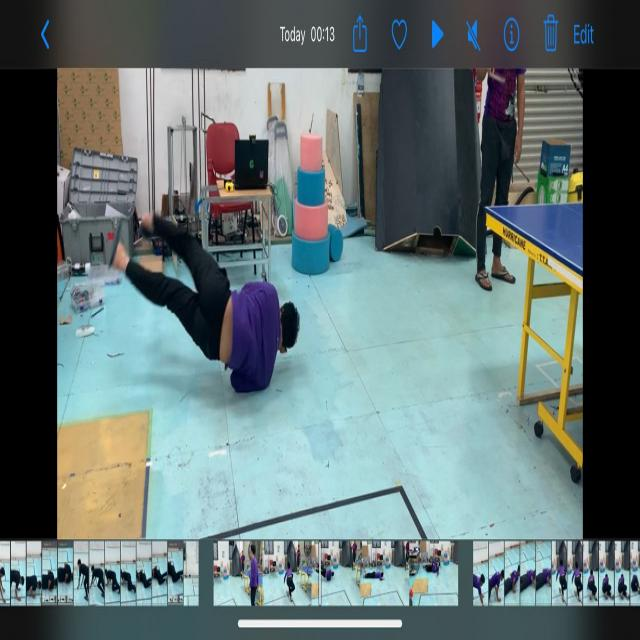Fall-Detected: (106, 195, 303, 402)
